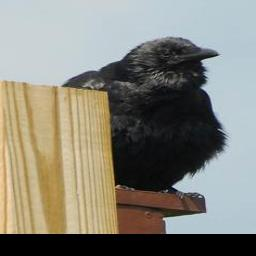Crow: (64, 35, 232, 198)
